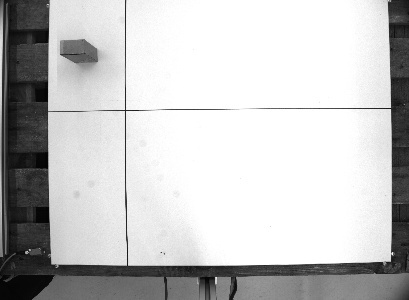b1: (57, 36, 100, 65)
